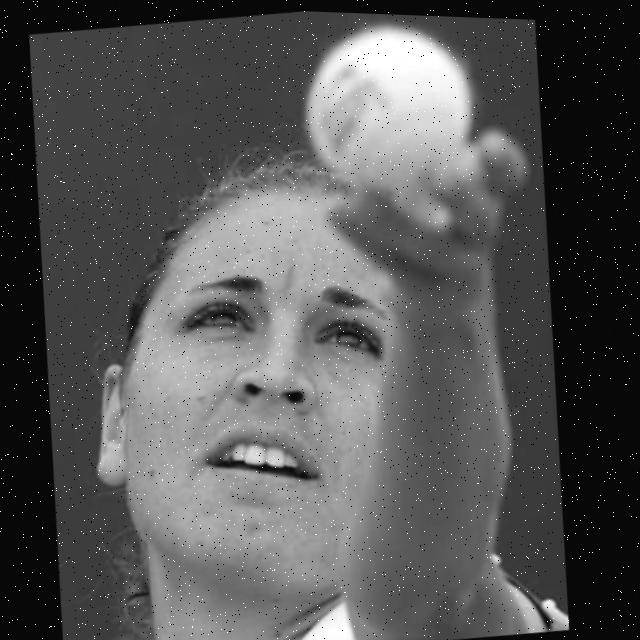face: (104, 153, 509, 619)
